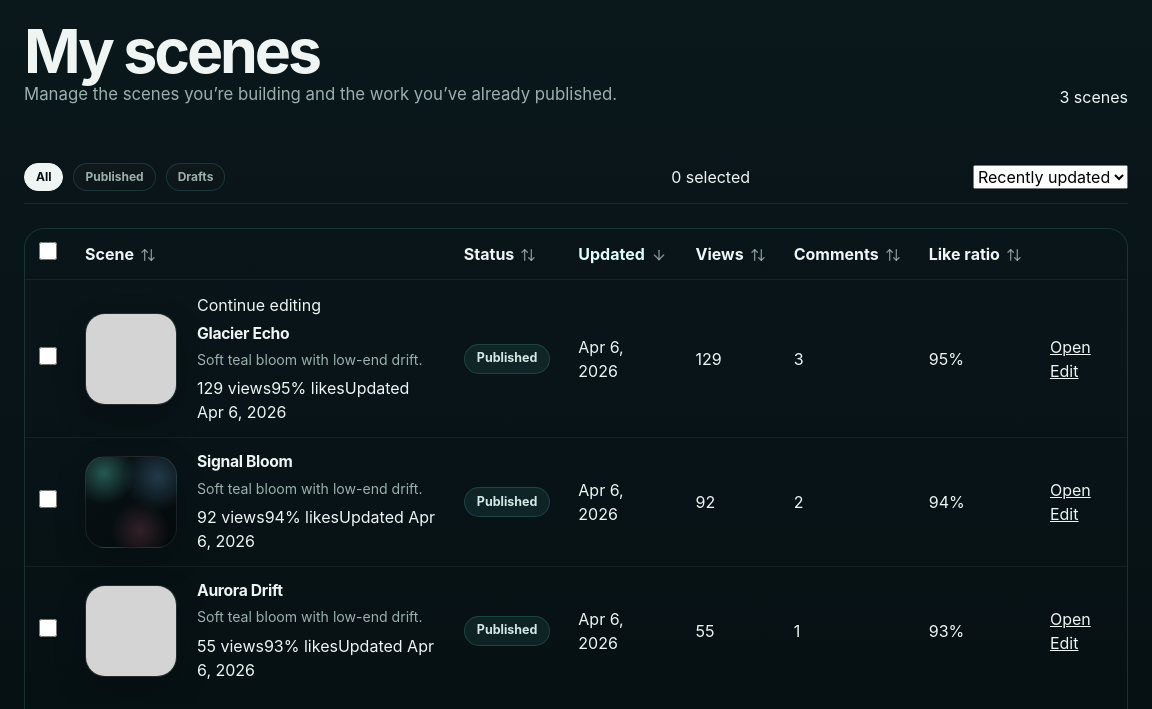
Scenario: MyScenesPage table behavior › filters the table with the visible status pills
Expected: the button with aria-label "All scenes" is shown, [24,163,64,191]
Click the button "Published": (115, 177) [74,163,156,191]
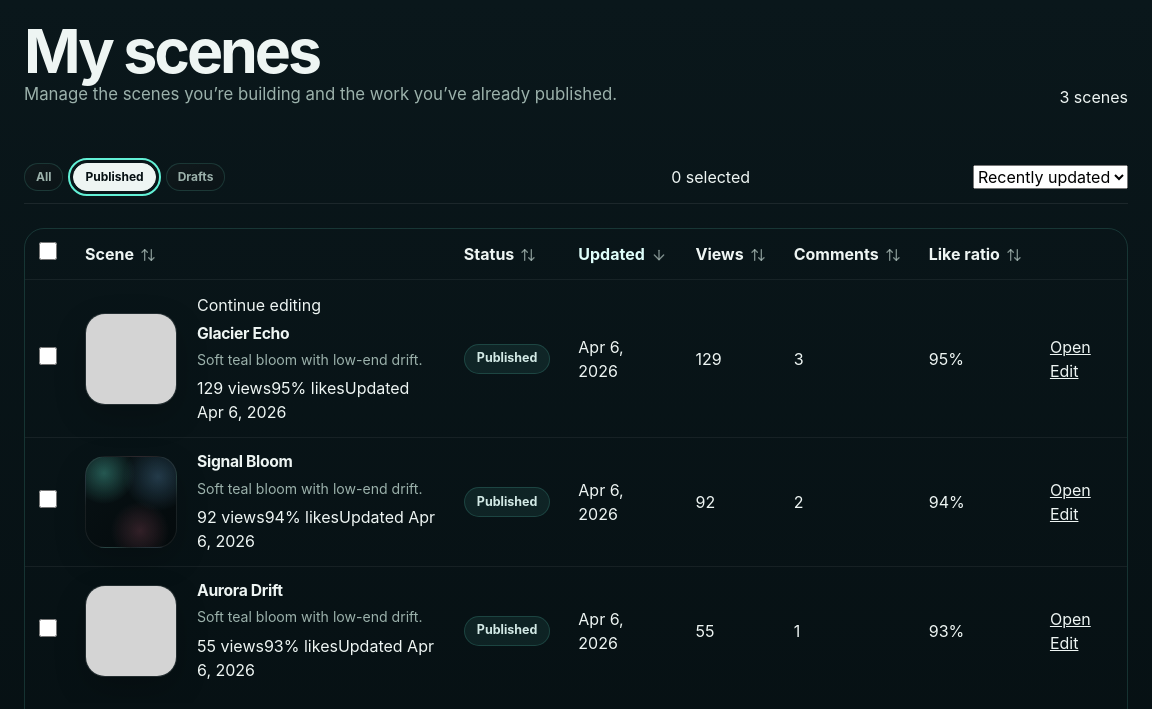
Expected: the text "3 scenes" is shown, [1060,85,1128,109]
Expected: the number of buttons "Published" is 4, [74,163,156,191]; [464,344,550,374]; [464,487,550,517]; [464,616,550,646]
Click the button "Drafts": (196, 177) [166,163,225,191]
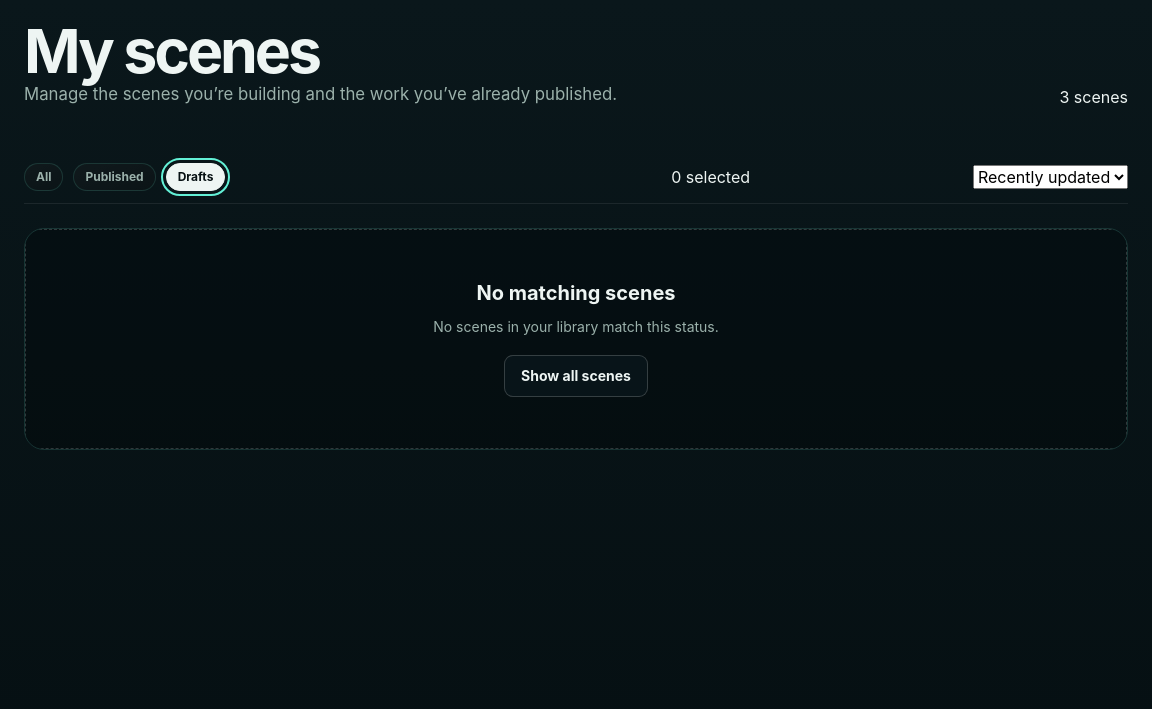
Expected: the heading "No matching scenes" is shown, [476,281,676,306]
Expected: the link "Aurora Drift" is gone
Click the button "Show all scenes": (576, 376) [504,355,648,397]
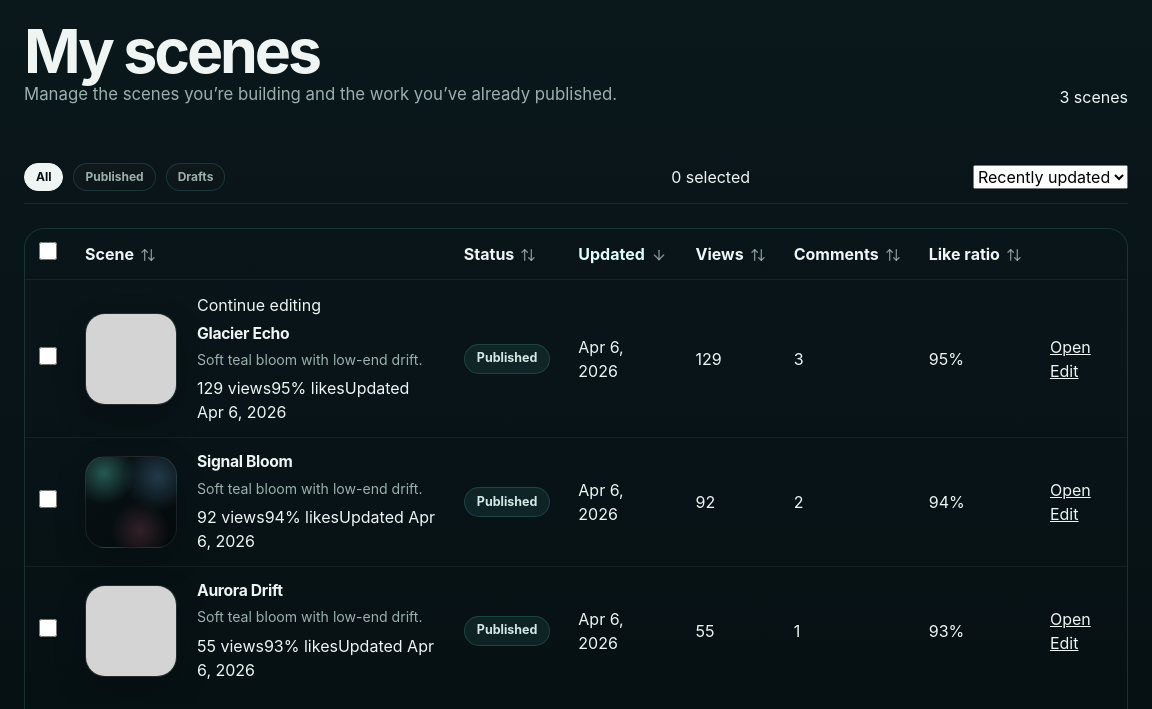
Expected: the link "Aurora Drift" is shown, [197,581,283,600]
